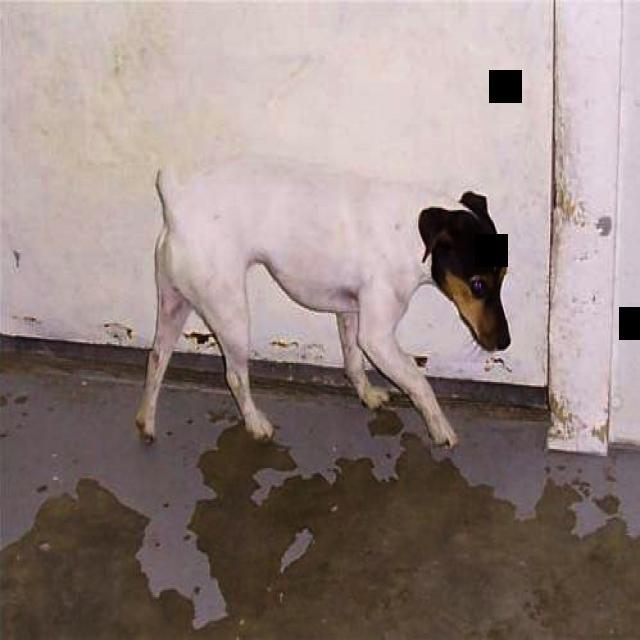adult_dog: (135, 153, 512, 450)
